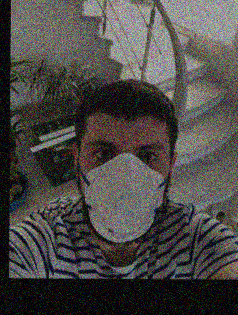with_mask: (80, 123, 170, 244)
